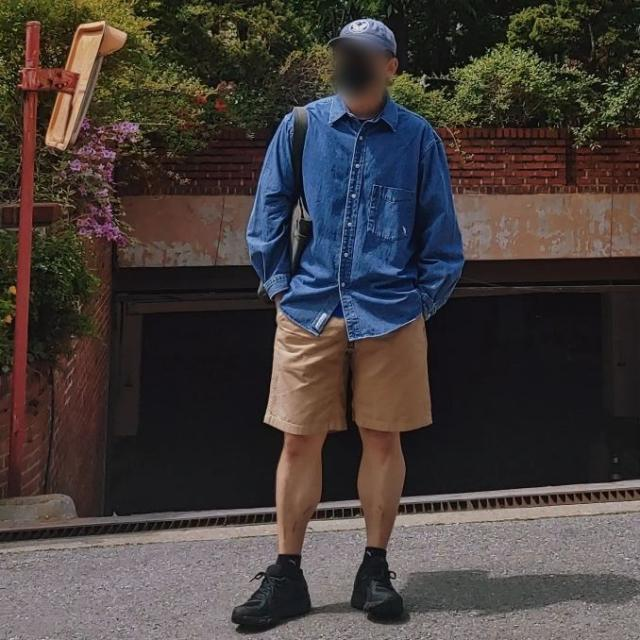shirt: (243, 94, 462, 347)
shortpants: (264, 301, 434, 434)
